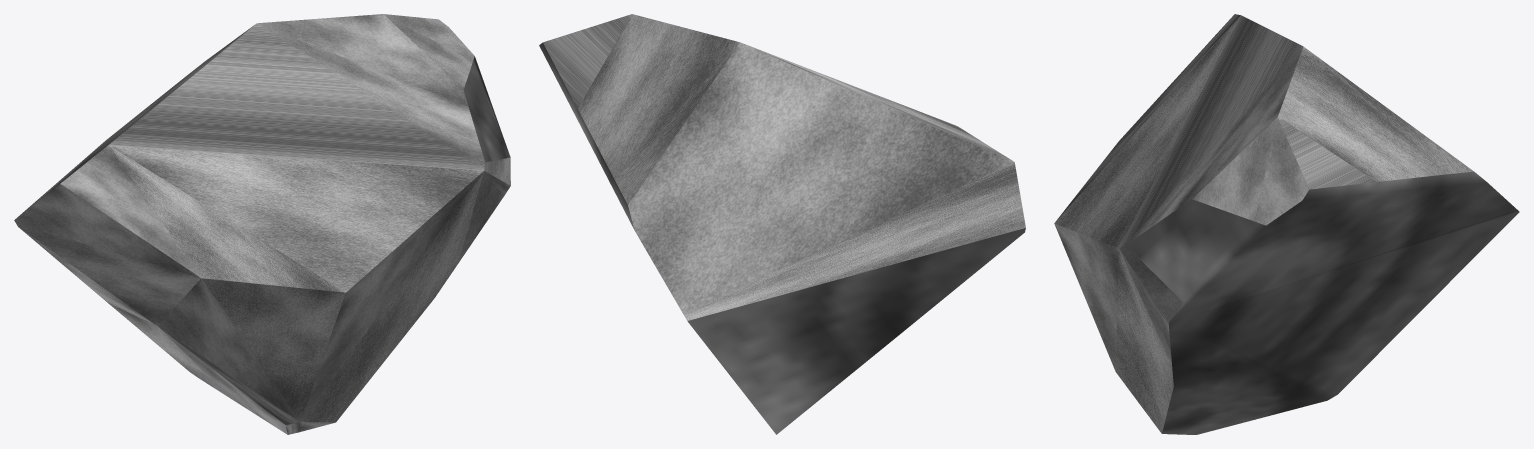
The model's file is tail_cell_015.fbx.
3 renders of one model, left to right at view 1: azimuth 30°, elevation 25°; view 2: azimuth 150°, elevation 25°; view 3: azimuth 270°, elevation 25°, orthographic. The views are drawn at different scales.
Visible parts, largest first — view 1: tail_cell.015; view 2: tail_cell.015; view 3: tail_cell.015.
Boxes of the visible parts, bbox=[...] form: tail_cell.015: bbox=[14, 14, 510, 434]; tail_cell.015: bbox=[539, 14, 1025, 434]; tail_cell.015: bbox=[1054, 14, 1519, 434].
Size of the model in its own units: 68.92 by 53.36 by 56.53.
